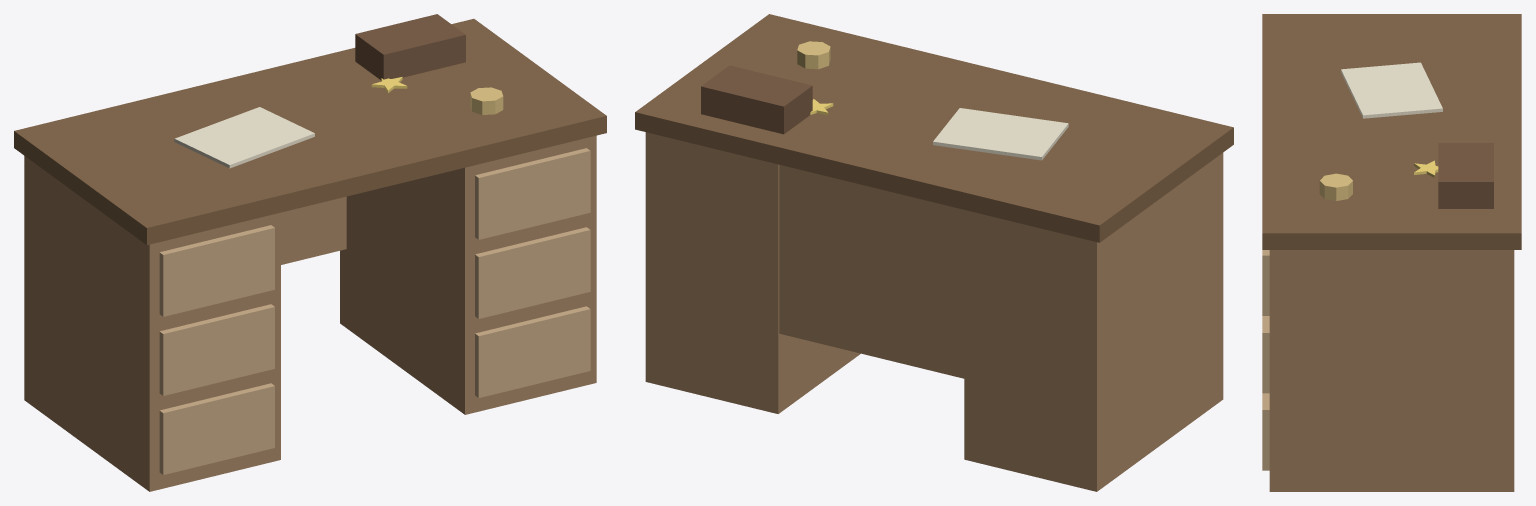
The model's file is SM_Sheriff_Desk.glb.
The picture shows the model from 3 angles, left to right: view 1: azimuth 30°, elevation 25°; view 2: azimuth 150°, elevation 25°; view 3: azimuth 270°, elevation 25°; orthographic projection. The views are drawn at different scales.
Visible parts, largest first — view 1: SM_Sheriff_Desk; view 2: SM_Sheriff_Desk; view 3: SM_Sheriff_Desk.
Part boxes in pixels (<box>): SM_Sheriff_Desk: <box>14,14,606,491</box>; SM_Sheriff_Desk: <box>635,14,1233,491</box>; SM_Sheriff_Desk: <box>1262,14,1521,491</box>.
Size of the model in its own units: 1.4 by 0.86 by 0.7.
